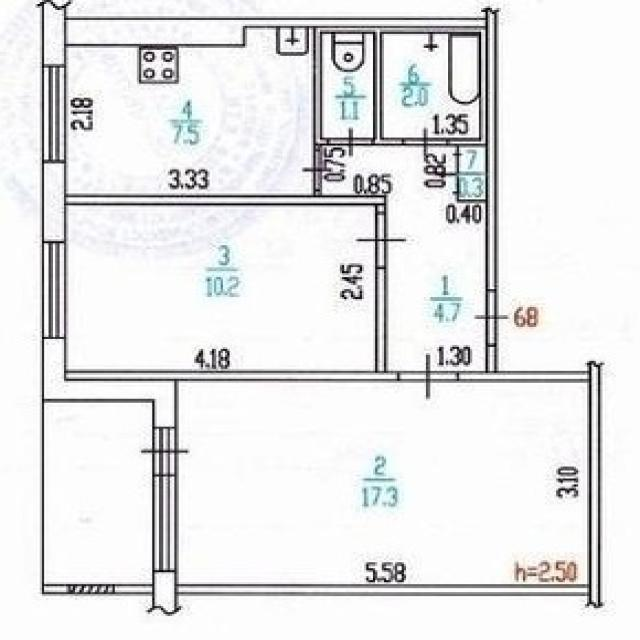Bathrooms: (382, 34, 479, 137), (323, 34, 372, 137)
Corridors: (323, 146, 486, 370), (43, 402, 153, 584), (460, 146, 485, 199)
Doors: (353, 213, 408, 269), (398, 351, 459, 401), (138, 427, 193, 476), (471, 289, 511, 347), (436, 145, 466, 201), (402, 127, 449, 161), (326, 127, 373, 158), (301, 150, 333, 190)
LBwalls: (34, 0, 487, 66), (42, 338, 177, 428), (143, 571, 186, 620), (43, 161, 66, 242)
Offices: (179, 381, 588, 584), (66, 206, 375, 370), (66, 28, 315, 194)
Walls: (175, 346, 607, 612), (314, 6, 503, 290), (65, 269, 398, 382), (65, 189, 387, 214), (43, 584, 153, 593)
Windows: (151, 474, 178, 572), (41, 64, 66, 163), (41, 241, 66, 338)
